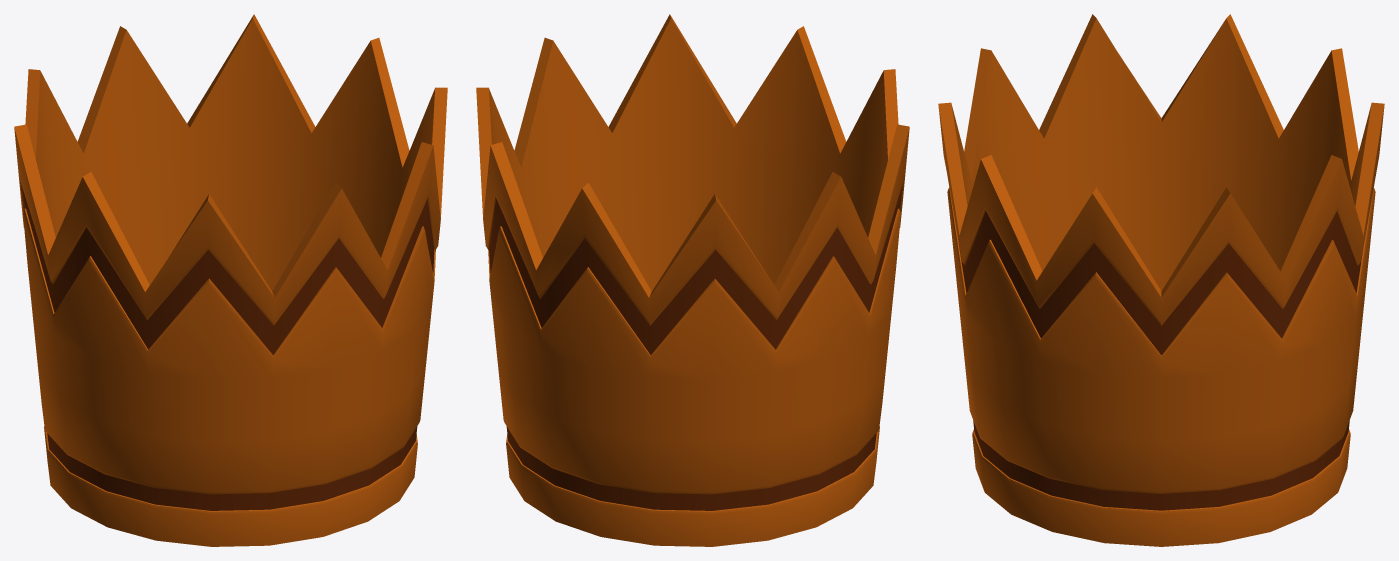
The model's file is Crown_03_v1dot4_PBRcol.dae.
3 renders of one model, left to right at view 1: azimuth 30°, elevation 25°; view 2: azimuth 150°, elevation 25°; view 3: azimuth 270°, elevation 25°, orthographic.
Parts seen in each view (by area): view 1: Crown; view 2: Crown; view 3: Crown.
Part boxes in pixels (box(x1,y1,x2,y2)): Crown: box(14, 14, 447, 546); Crown: box(476, 14, 909, 546); Crown: box(938, 14, 1384, 546).
Size of the model in its own units: 137 by 130 by 143.
